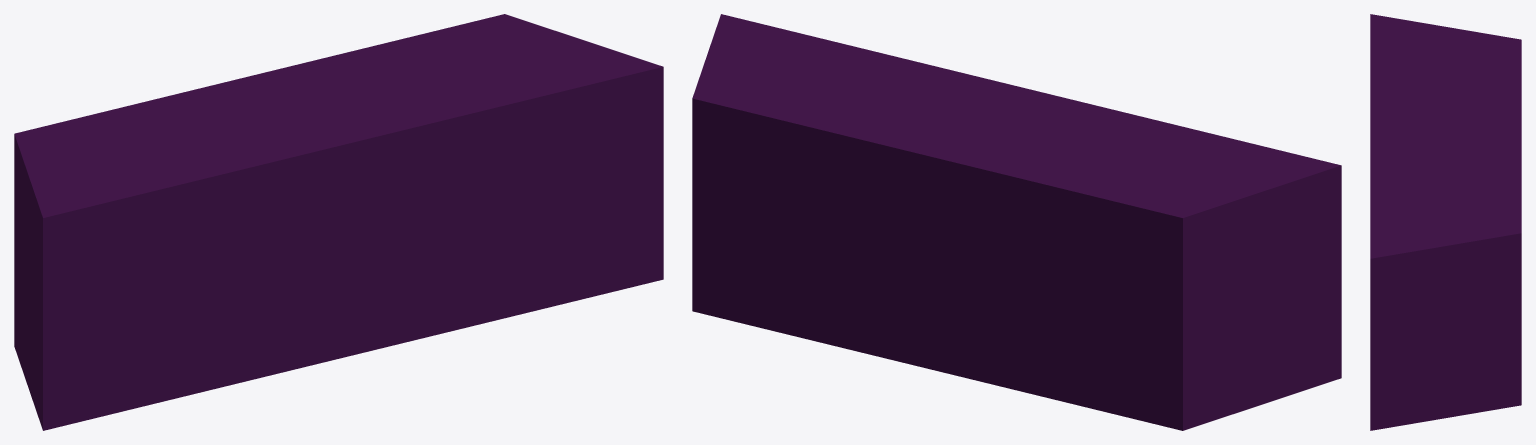
The model's file is buho5.glb.
3 renders of one model, left to right at view 1: azimuth 30°, elevation 25°; view 2: azimuth 150°, elevation 25°; view 3: azimuth 270°, elevation 25°, orthographic. The views are drawn at different scales.
Parts seen in each view (by area): view 1: buho5; view 2: buho5; view 3: buho5.
Boxes of the visible parts, left/top/right/bottom form: buho5: left=14, top=14, right=663, bottom=430; buho5: left=692, top=14, right=1341, bottom=430; buho5: left=1370, top=14, right=1521, bottom=430.
Size of the model in its own units: 0.9352 by 0.3065 by 0.2448.
